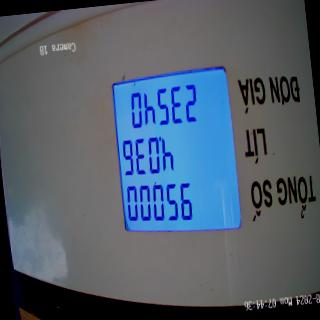screen: (106, 64, 246, 248)
